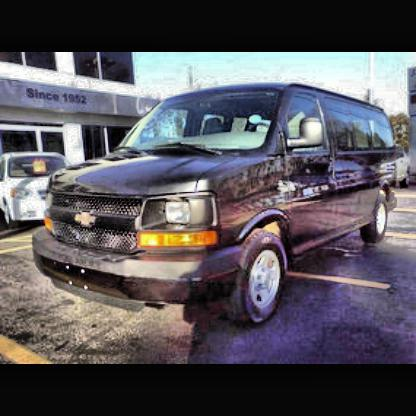Chevrolet Express Van 2007: (35, 81, 402, 321)
